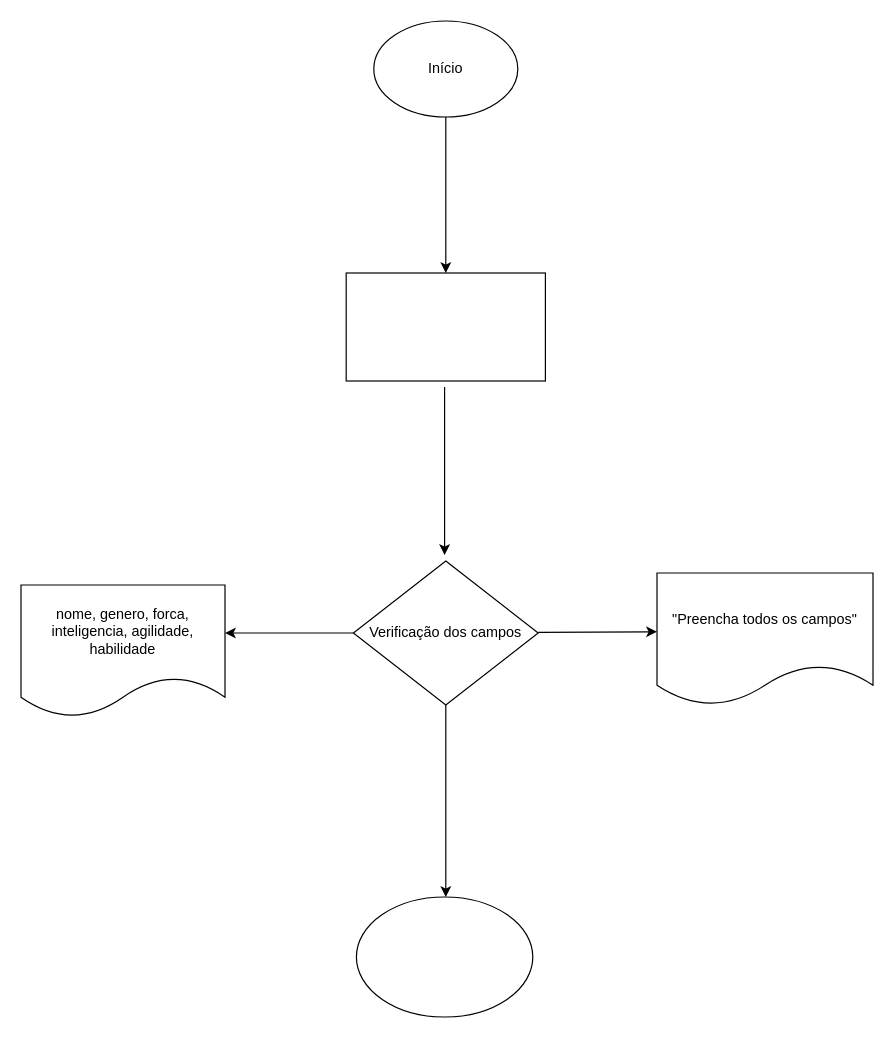
This 894x1038 diagram has some shape labels left out. The centre of each missing label's shape, as x and y in pixels:
Fim: the point at 444,956
Receber Dados (nome, gênero, força, inteligência, agilidade, habilidade): the point at 445,326
